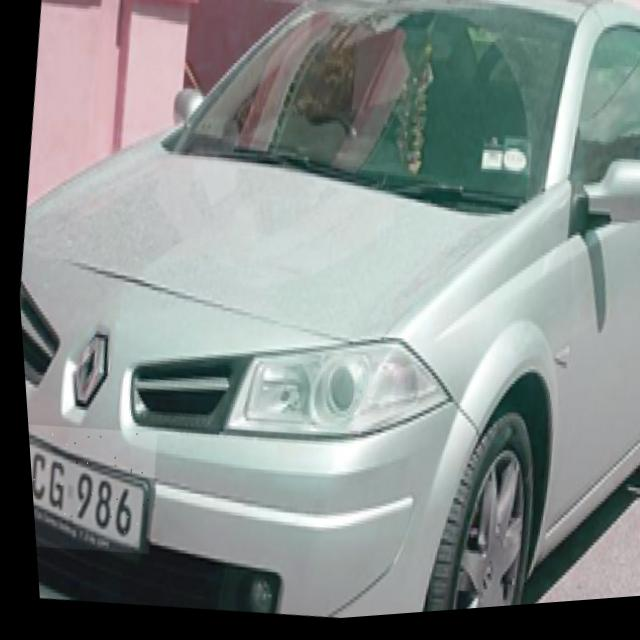license_plate: (22, 415, 157, 562)
